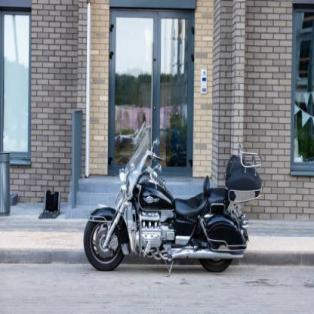Motocicleta: (84, 126, 264, 282)
